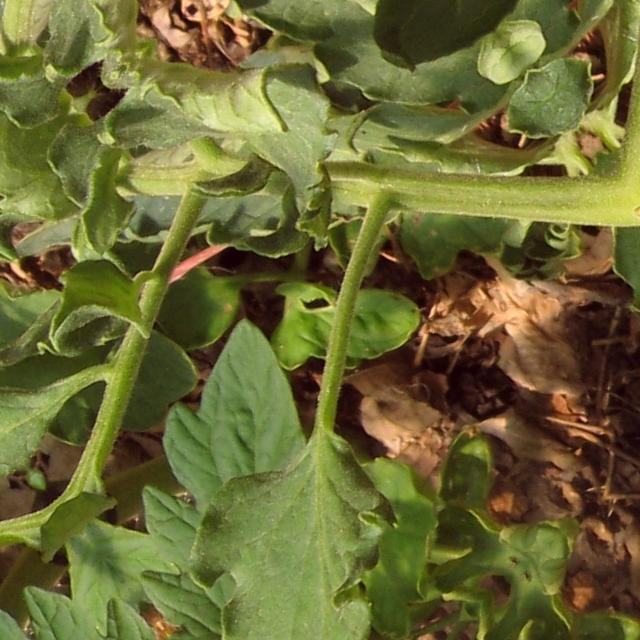Tomato leaf: (129, 439, 459, 640)
